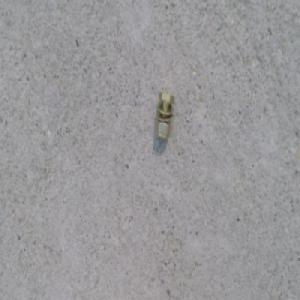BoltNutSet: (154, 92, 177, 140)
